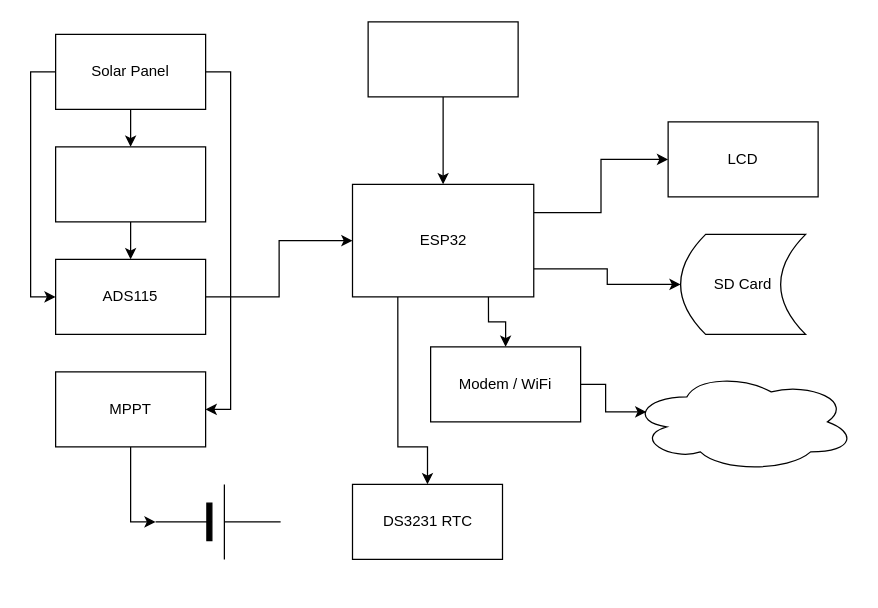
This 878x608 diagram has some shape labels left out. The centre of each missing label's shape, as x and y in pixels:
"ACS758" goes at (x=130, y=184).
"Battery" goes at (x=217, y=521).
"Cloud (Optional)" goes at (x=742, y=421).
"Power Supply" goes at (x=442, y=59).
